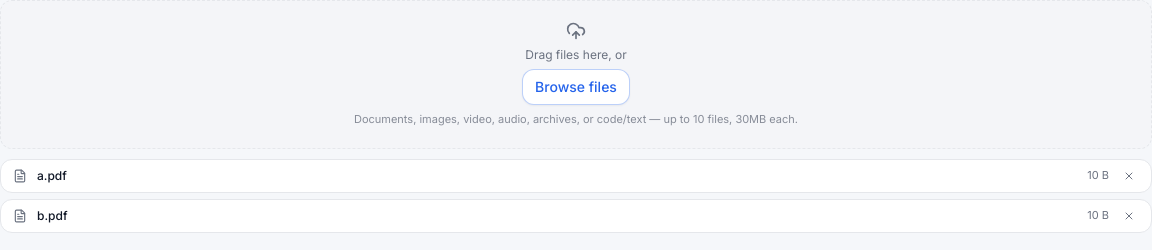
AttachmentUploader (existing behavior) › removes a single attachment and leaves the others
The width and height of the screenshot is (1152, 250).
Click the button named "Remove a.pdf".
click(1129, 176)  # box [1119, 166, 1139, 186]
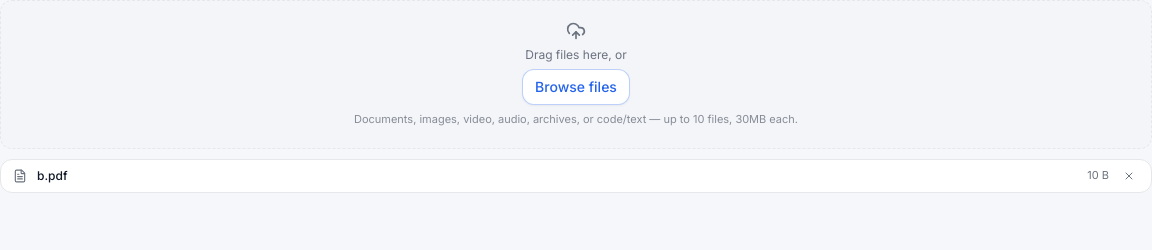
Check: the button "b.pdf" is shown, box [37, 168, 1077, 184]
Check: the button "a.pdf" is gone
